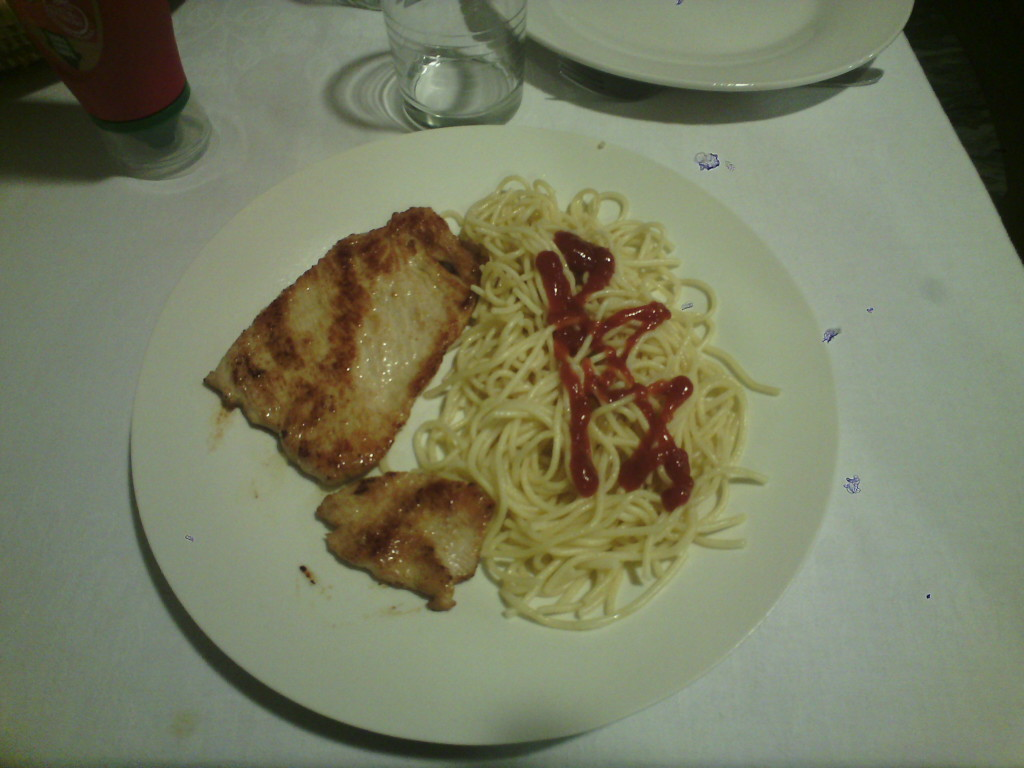81-100: (136, 126, 835, 754)
